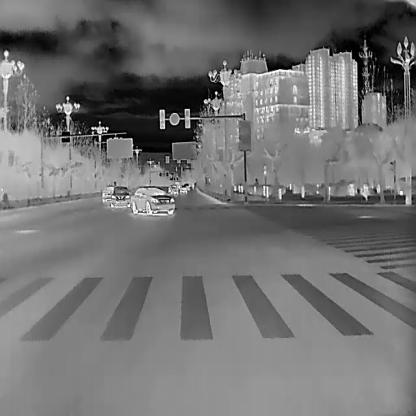car: (130, 186, 175, 216), (109, 185, 131, 209), (101, 185, 115, 203), (168, 182, 178, 195), (179, 184, 187, 194), (183, 182, 189, 191)
